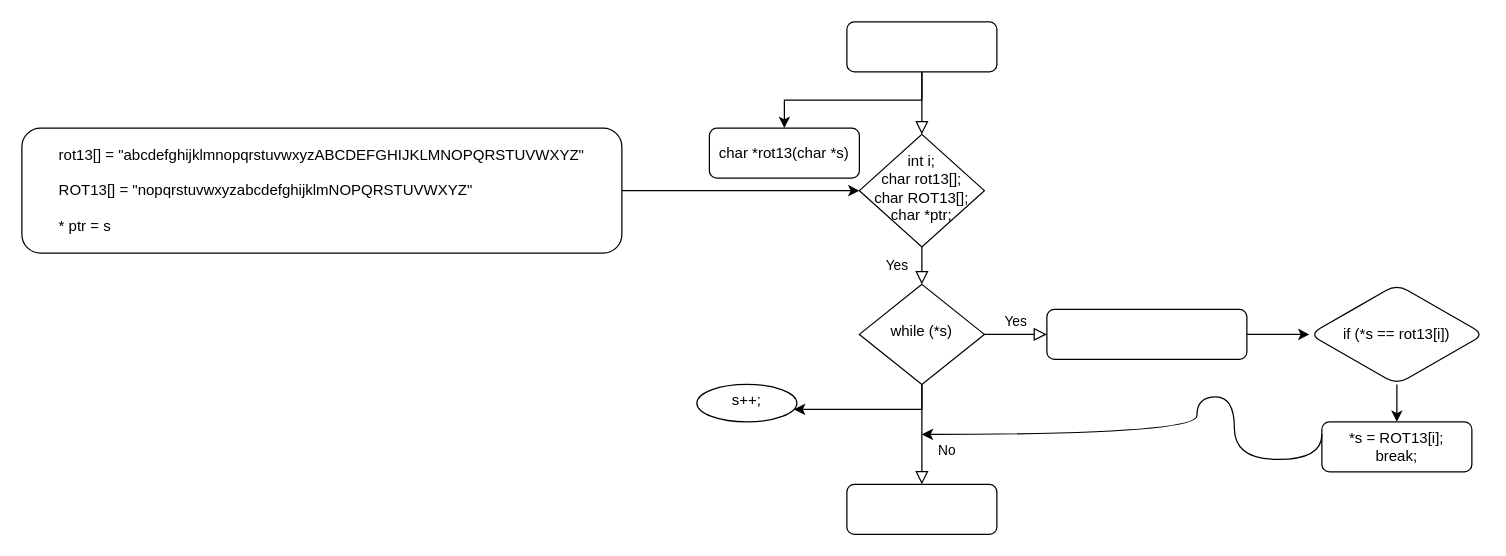
This 1506x556 diagram has some shape labels left out. Each missing label, with the centre of its shape:
for (i = 0; i <= 52; i++): the point at 1146,333
return (ptr): the point at 921,508
rot13: the point at 921,46
